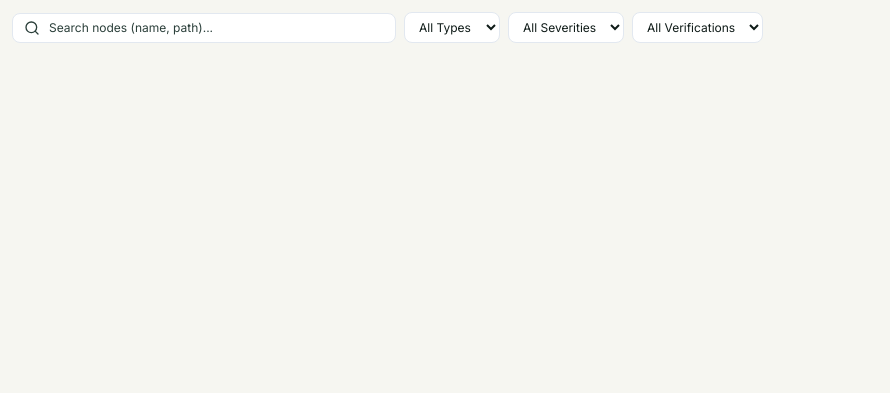
Test: GraphSearchFilters & Breadcrumbs (Step 11b Part A) › resets query and filters when Clear filters button is clicked
In the search field labelled "Search nodes": (204, 28) [12,12,396,42], type "notice"
Wait 300 ms
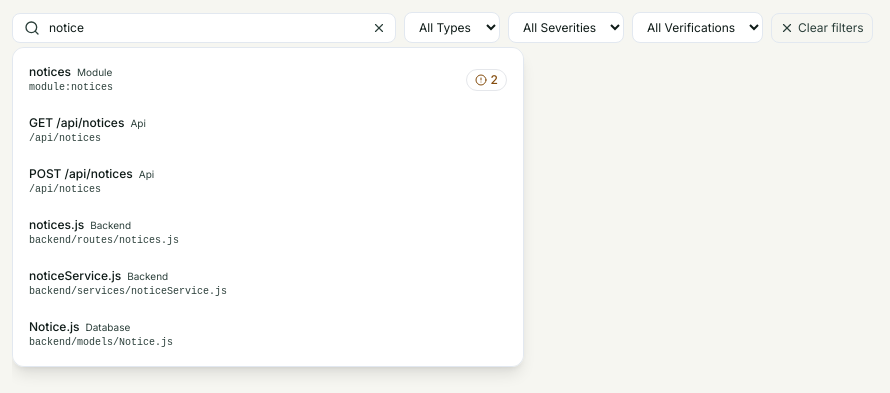
Expected: the button with test id "clear-filters-btn" is shown
Click the button with test id "clear-filters-btn": (822, 28) [771,12,872,42]
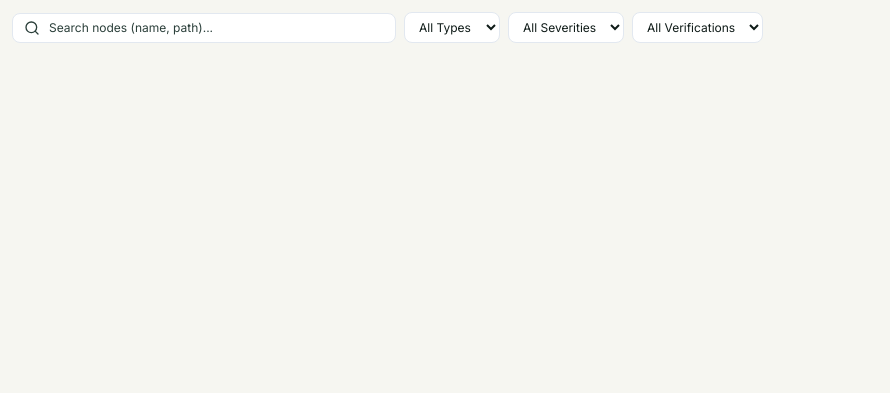
Expected: the search field labelled "Search nodes" is empty, [12,12,396,42]
Expected: the element with test id "search-results-dropdown" is gone
Expected: the button with test id "clear-filters-btn" is gone
